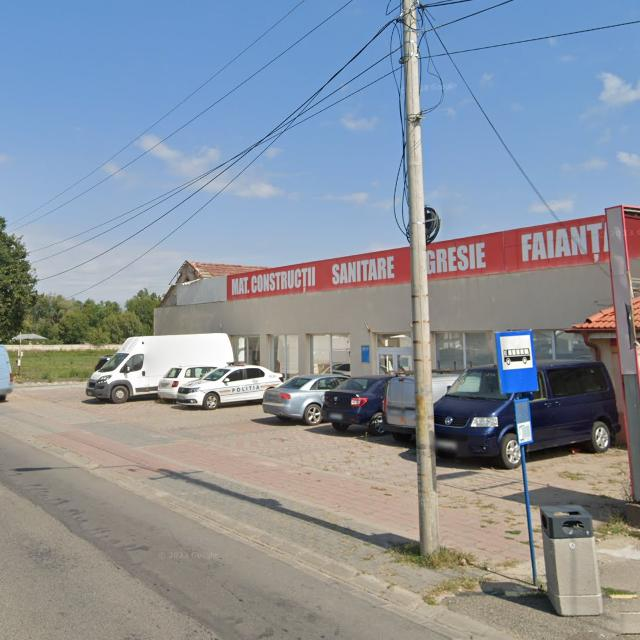info_bus_station: (494, 331, 540, 394)
